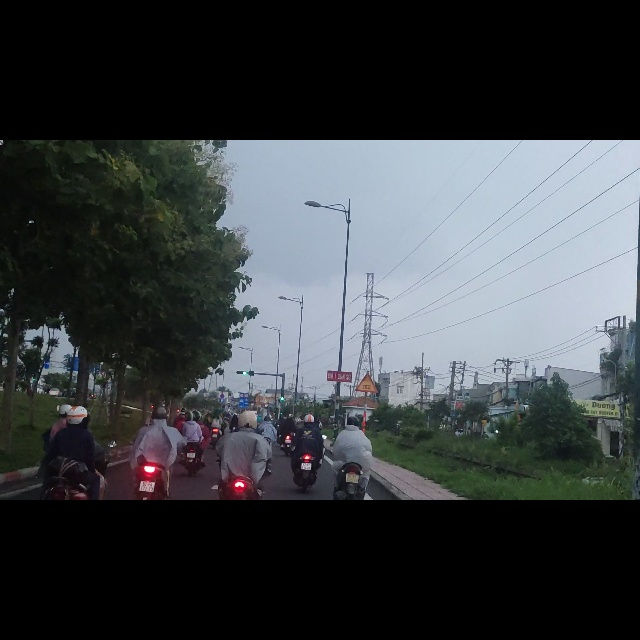bien_nguy_hiem: (356, 415, 378, 449)
